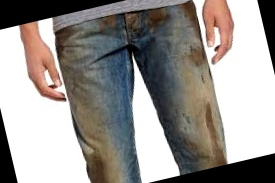earth: (201, 103, 227, 164), (85, 157, 111, 183), (181, 0, 198, 27), (146, 8, 167, 28), (97, 16, 118, 36), (187, 45, 207, 65)
